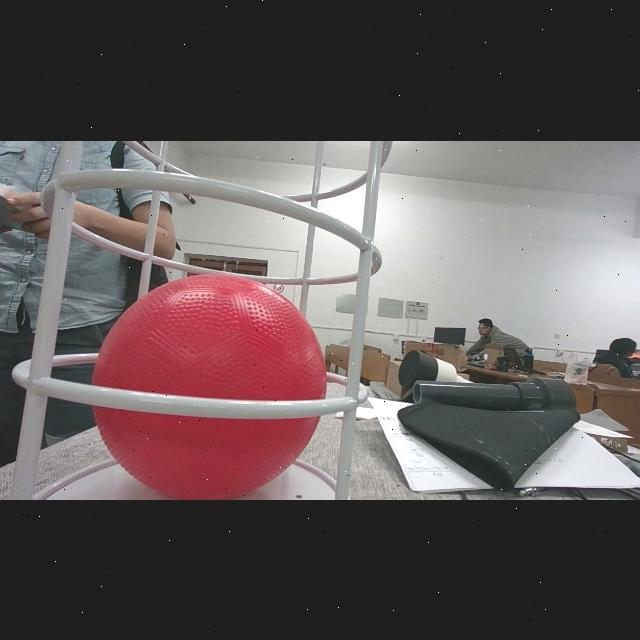R: (92, 271, 328, 499)
S: (8, 140, 394, 500)
